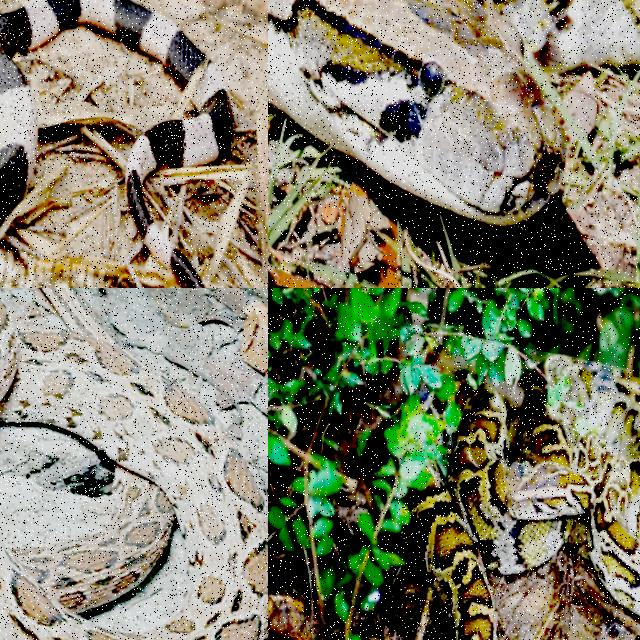Bungarus candidus: (0, 0, 204, 222)
Daboia siamensis: (0, 301, 267, 639)
Python bivittatus: (268, 0, 639, 223), (410, 355, 639, 639)
snake: (0, 301, 267, 639), (268, 0, 639, 223), (410, 355, 639, 639), (0, 0, 204, 222)
